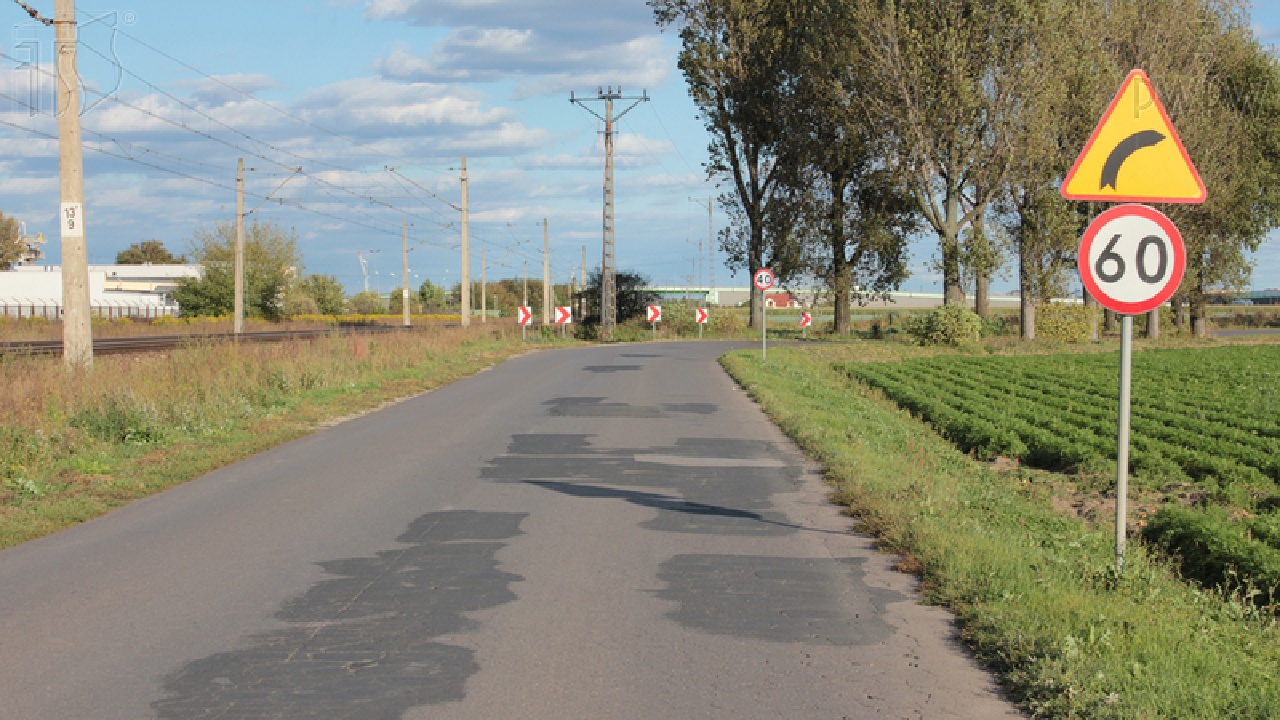A1: (1061, 69, 1207, 204)
B33_40: (753, 269, 774, 290)
B33_60: (1078, 204, 1185, 315)
